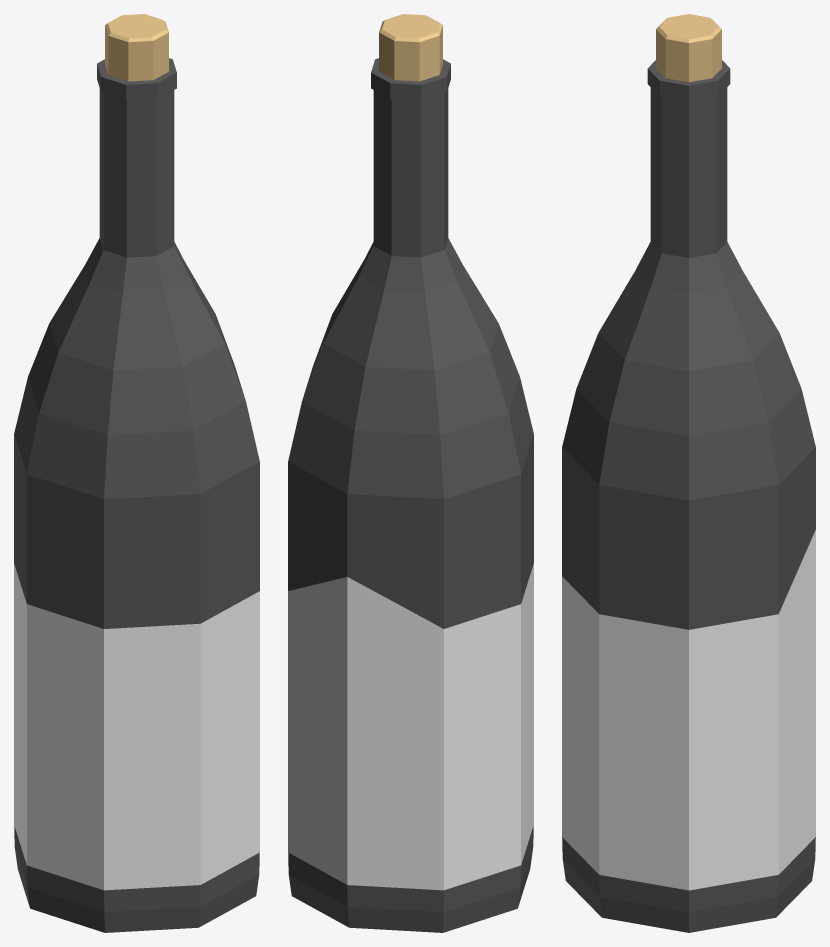
The model's file is Bottle_Of_Wine_10.gltf.
3 renders of one model, left to right at view 1: azimuth 30°, elevation 25°; view 2: azimuth 150°, elevation 25°; view 3: azimuth 270°, elevation 25°, orthographic.
Visible parts, largest first — view 1: node-0; view 2: node-0; view 3: node-0.
Part boxes in pixels (x1,y1,x2,y2): node-0: (14, 14, 259, 932); node-0: (288, 14, 533, 932); node-0: (562, 14, 815, 932).
Size of the model in its own units: 2.68 by 9.95 by 2.68.
